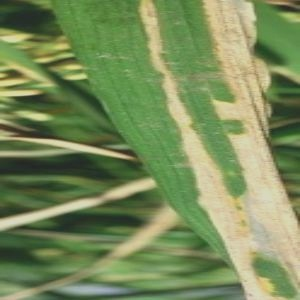Leaf_Blast: (135, 1, 273, 247)
